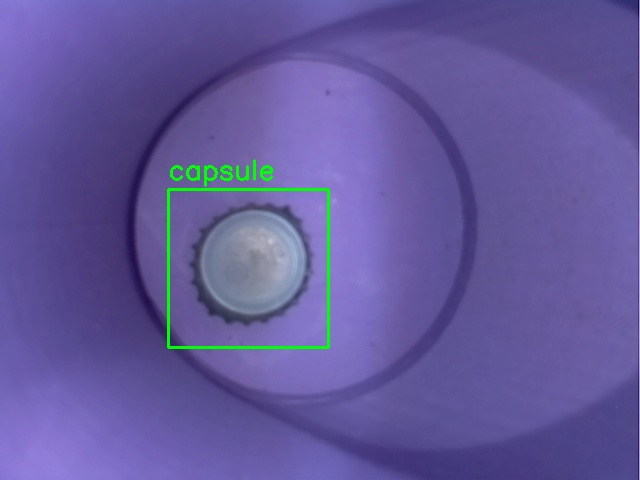capsule: (168, 189, 328, 347)
